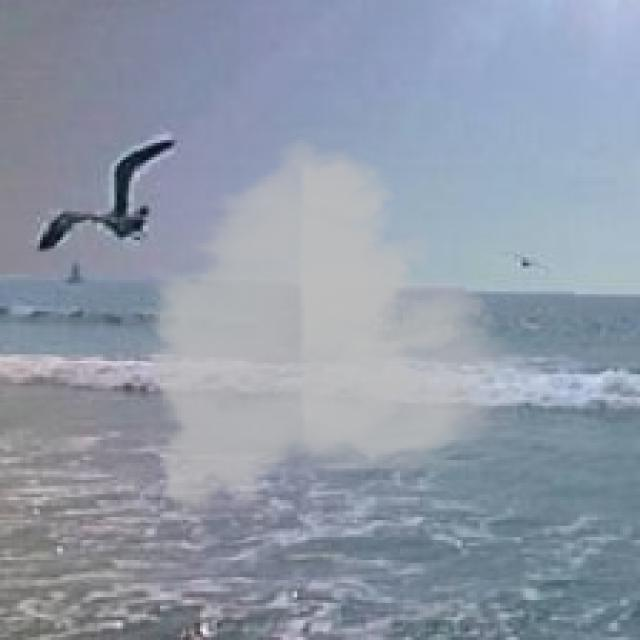Smoke: (134, 126, 517, 532)
